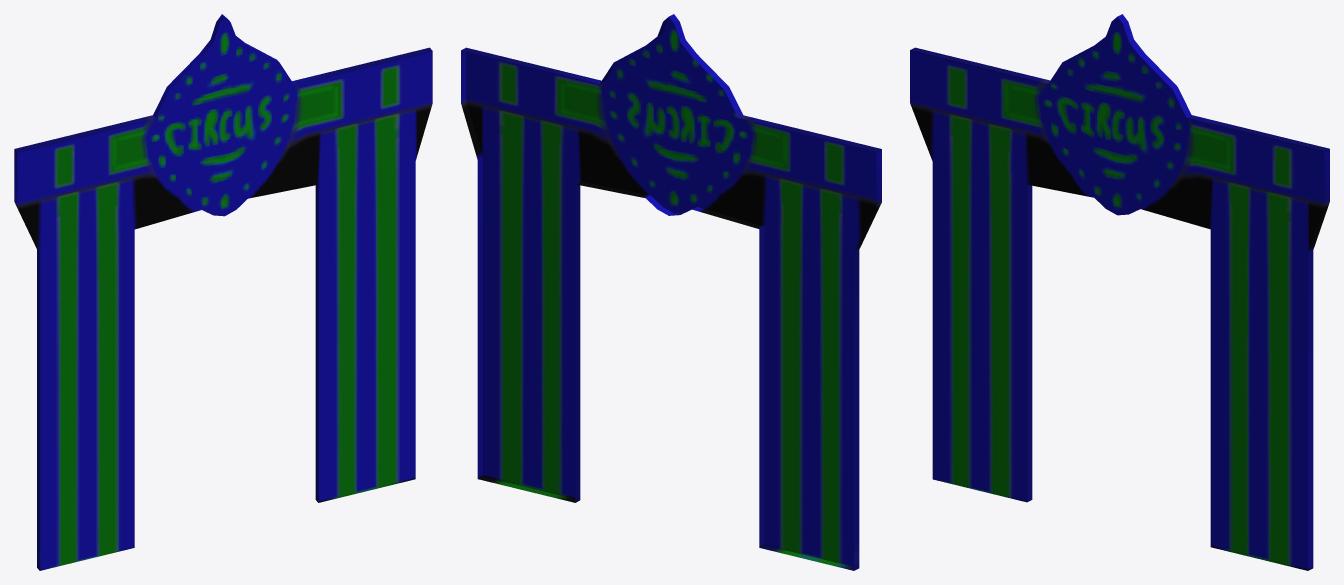
File: CardboardCutout_Archway_BlueGreen_Scaled.fbx
3 views of the same model, side by side, from view 1: azimuth 30°, elevation 25°; view 2: azimuth 150°, elevation 25°; view 3: azimuth 330°, elevation 25° (orthographic).
Visible parts, largest first — view 1: StripeArchway2; view 2: StripeArchway2; view 3: StripeArchway2.
Boxes of the visible parts, bbox=[...] form: StripeArchway2: bbox=[14, 14, 432, 570]; StripeArchway2: bbox=[461, 14, 881, 570]; StripeArchway2: bbox=[910, 14, 1329, 570].
Bounding box in the file's own units: 300 × 350 × 4.98.
